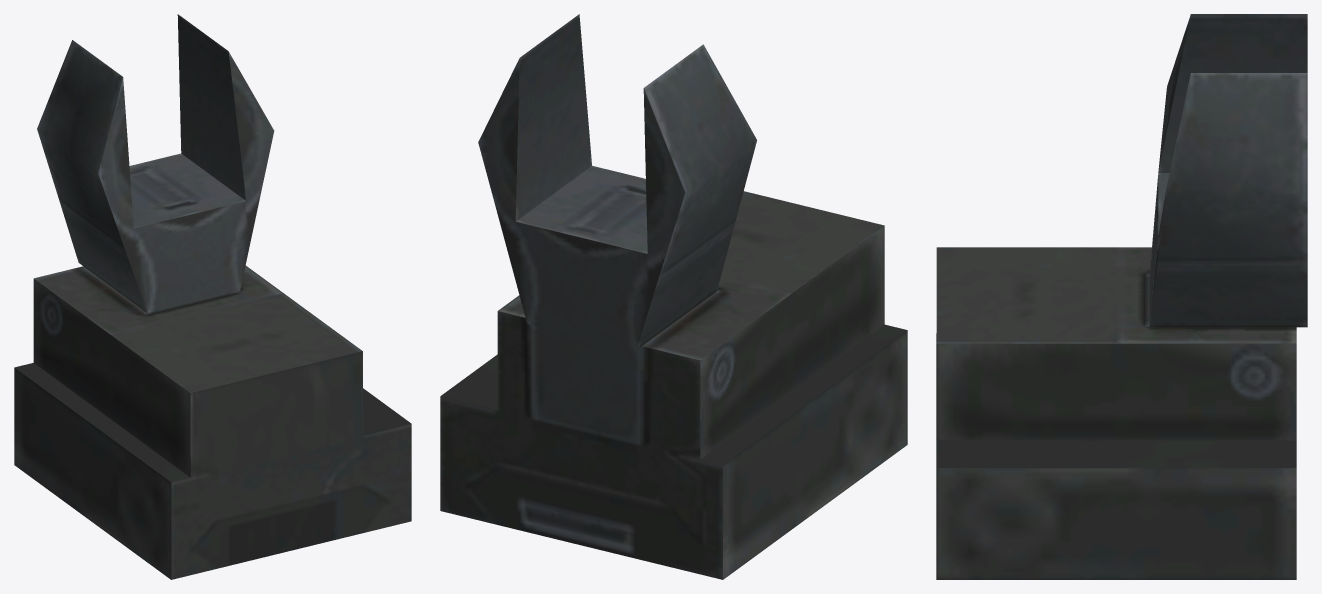
File: Pickup_WeaponZj09.glb
3 views of the same model, side by side, from view 1: azimuth 30°, elevation 25°; view 2: azimuth 150°, elevation 25°; view 3: azimuth 270°, elevation 25° (orthographic). The views are drawn at different scales.
Visible parts, largest first — view 1: pk_weapon_zj09; view 2: pk_weapon_zj09; view 3: pk_weapon_zj09.
Boxes of the visible parts, x1=… form: pk_weapon_zj09: x1=14, y1=14, x2=411, y2=579; pk_weapon_zj09: x1=440, y1=14, x2=907, y2=579; pk_weapon_zj09: x1=936, y1=14, x2=1307, y2=579.
Size of the model in its own units: 0.0613 by 0.0991 by 0.0714.
1 material, 1 textured.
